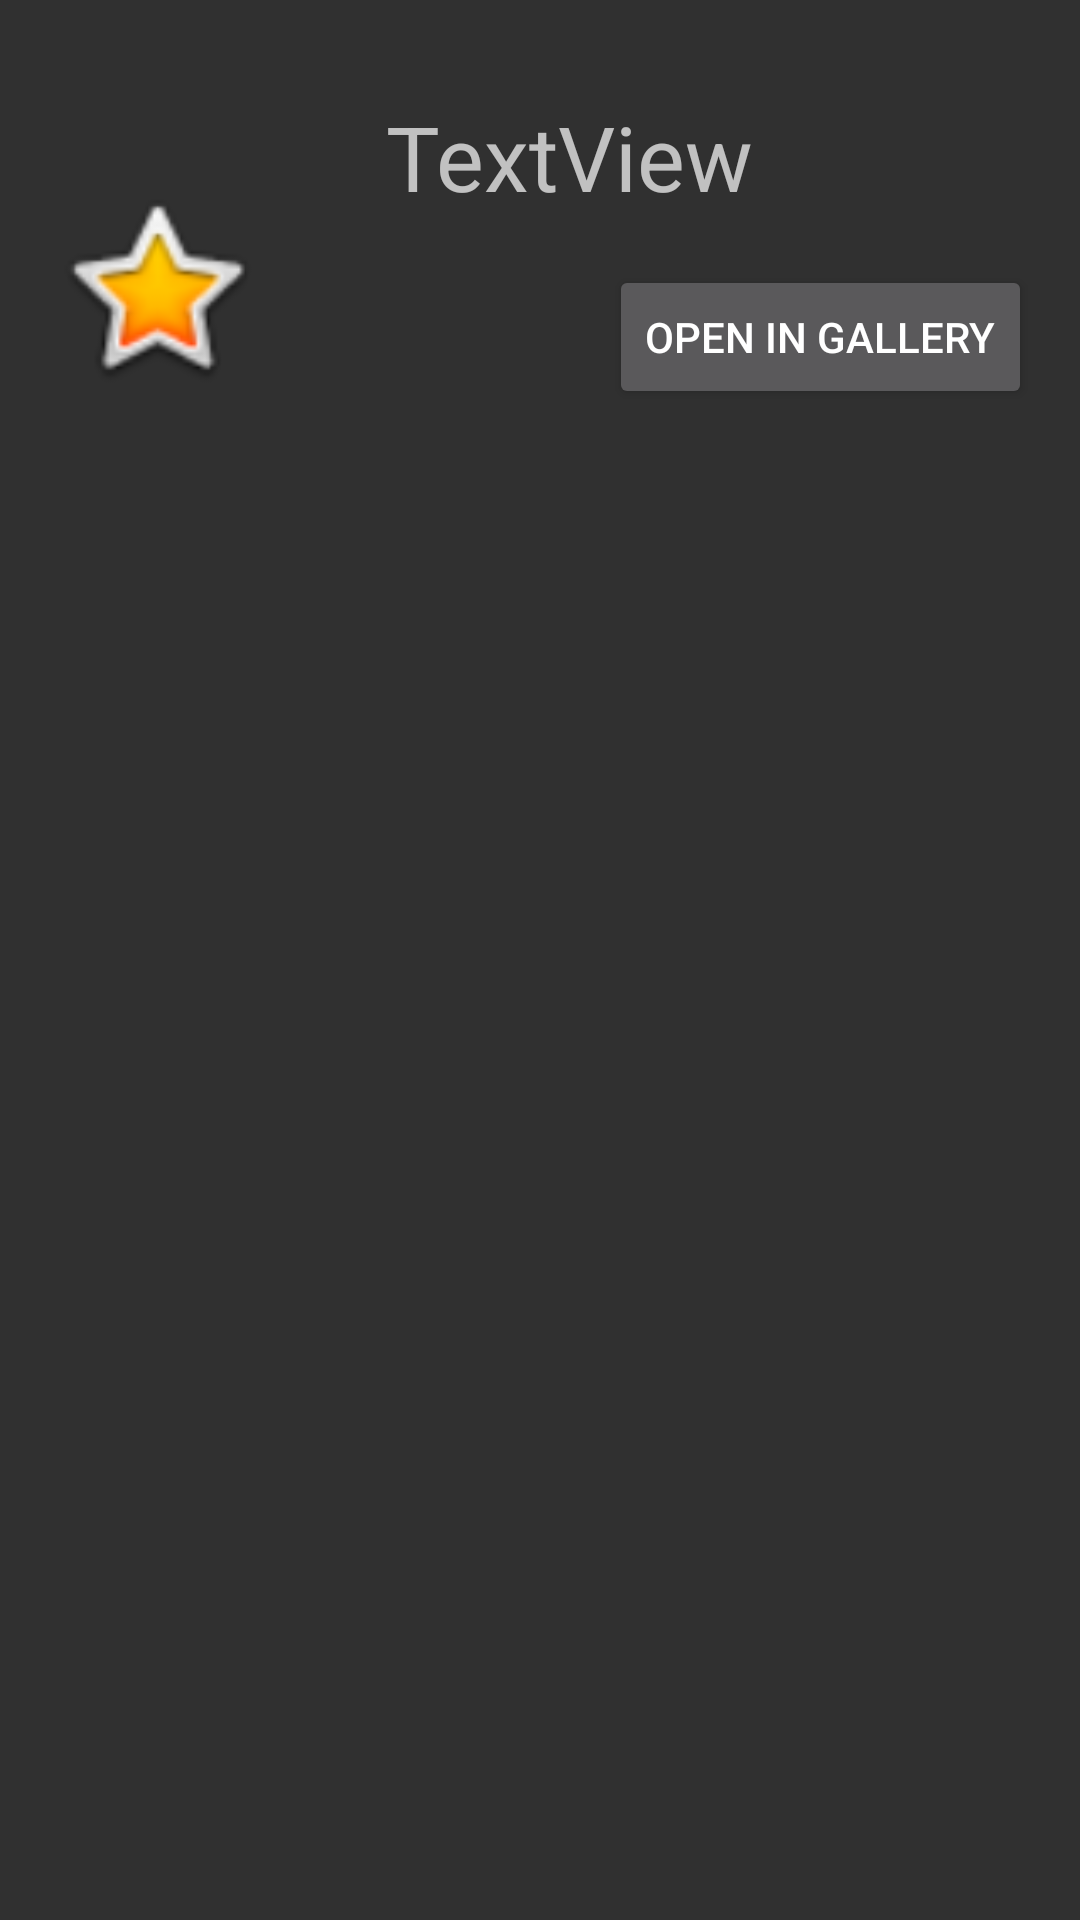

Point at icon controls on the screen. Image size 1080x1920, points as point (x, y).
star on: point (158, 287)
